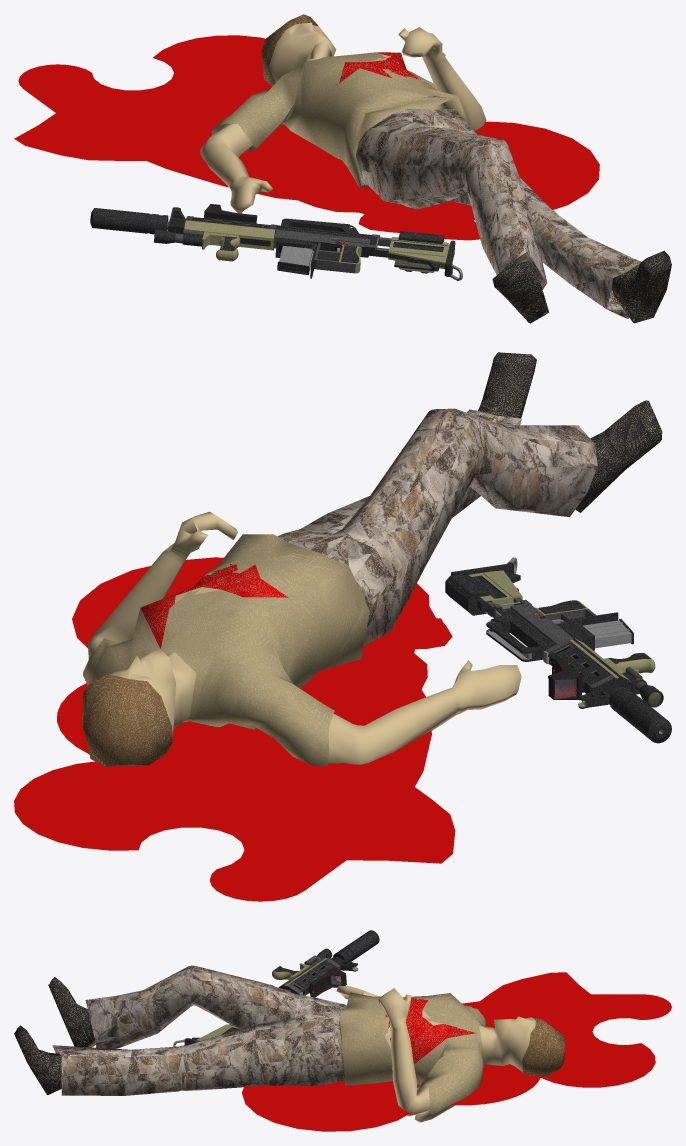
The picture shows the model from 3 angles, top to bottom: view 1: azimuth 30°, elevation 25°; view 2: azimuth 150°, elevation 25°; view 3: azimuth 270°, elevation 25°; orthographic projection. The views are drawn at different scales.
Parts seen in each view (by area): view 1: ske26 (×10), SketchUp, group_8 (×2), group_13, group_15, group_6, group_16, group_3, group_17, group_7, group_11, group_12; view 2: ske26 (×9), SketchUp, group_13, group_18, group_11, group_3, group_7, group_12, group_9, group_17, group_6, group_8; view 3: ske26 (×9), SketchUp, group_17, group_13, group_9.
Boxes of the visible parts, box(x1,y1,x2,y2) form: ske26 (×10): box(200, 14, 671, 323); SketchUp: box(14, 35, 599, 240); group_8 (×2): box(274, 229, 370, 273); group_13: box(90, 208, 149, 233); group_15: box(184, 221, 274, 250); group_6: box(388, 237, 449, 269); group_16: box(202, 232, 240, 261); group_3: box(281, 218, 358, 233); group_17: box(204, 204, 257, 223); group_7: box(279, 245, 312, 265); group_11: box(276, 225, 371, 239); group_12: box(275, 237, 318, 278); ske26 (×9): box(82, 352, 662, 766); SketchUp: box(14, 557, 455, 901); group_13: box(619, 695, 671, 743); group_18: box(445, 573, 489, 615); group_11: box(496, 608, 554, 650); group_3: box(486, 615, 544, 661); group_7: box(583, 620, 631, 648); group_12: box(557, 612, 618, 651); group_9: box(558, 646, 611, 693); group_17: box(548, 653, 584, 700); group_6: box(469, 570, 522, 612); group_8: box(511, 603, 573, 643); ske26 (×9): box(14, 965, 565, 1122); SketchUp: box(242, 972, 671, 1131); group_17: box(308, 967, 346, 997); group_13: box(343, 930, 379, 960); group_9: box(294, 960, 337, 994).
Bounding box in the file's own units: 58.5 × 91.15 × 16.55.
23 materials, 4 textured.
